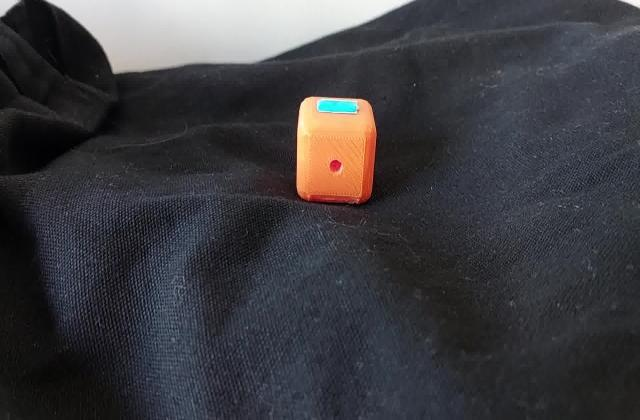blue: (324, 101, 352, 111)
cube: (294, 94, 378, 208)
